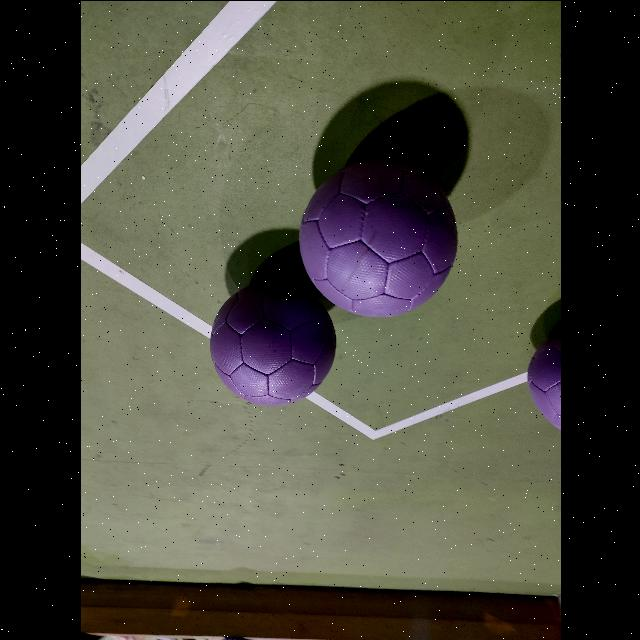P: (298, 158, 456, 316), (210, 281, 334, 405), (526, 331, 560, 429)
